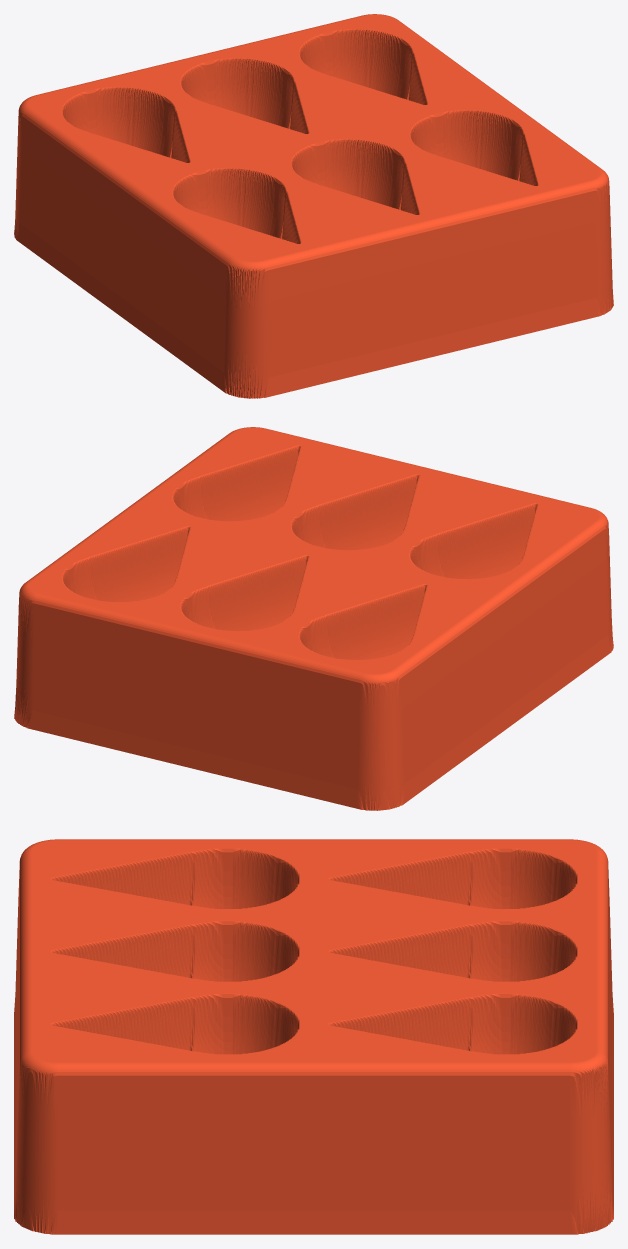
The model's file is mold.glb.
The picture shows the model from 3 angles, top to bottom: view 1: azimuth 30°, elevation 25°; view 2: azimuth 150°, elevation 25°; view 3: azimuth 270°, elevation 25°; orthographic projection. The views are drawn at different scales.
Parts seen in each view (by area): view 1: geometry_0; view 2: geometry_0; view 3: geometry_0.
Boxes of the visible parts, x1,y1,x2,y2 form: geometry_0: (14,14,613,398); geometry_0: (14,427,613,810); geometry_0: (14,839,613,1234).
Size of the model in its own units: 0.1164 by 0.0377 by 0.1246.
